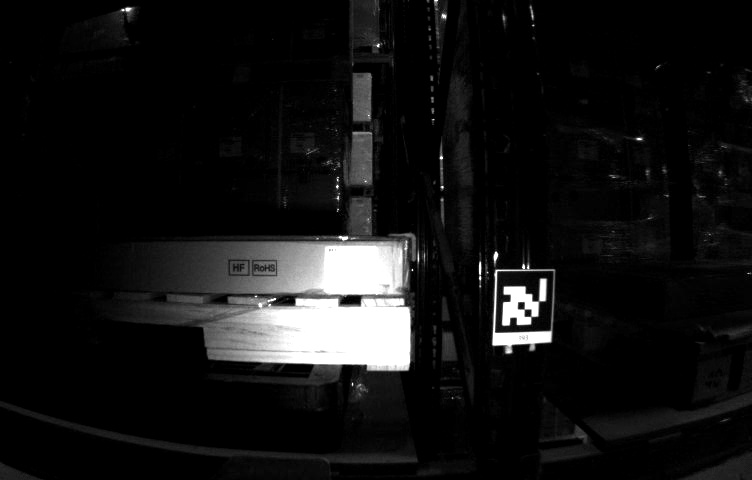True Barcode: (323, 243, 379, 294)
